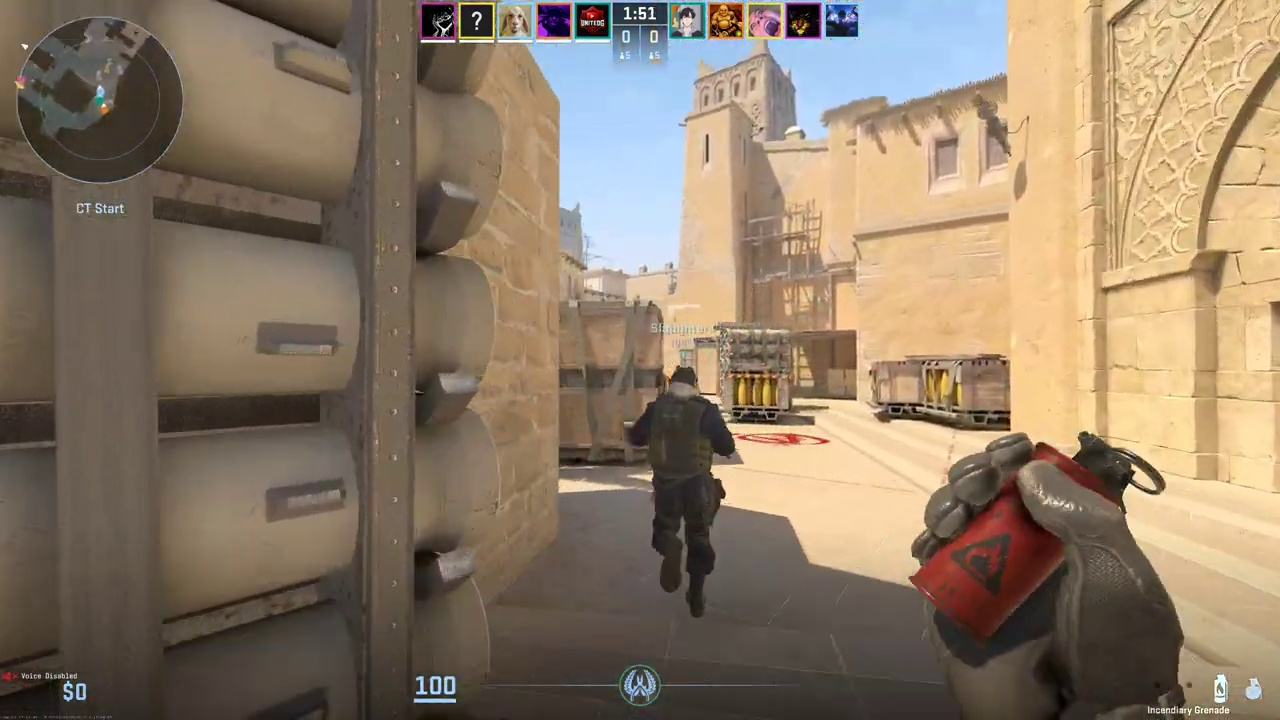CT: (641, 366, 729, 615)
